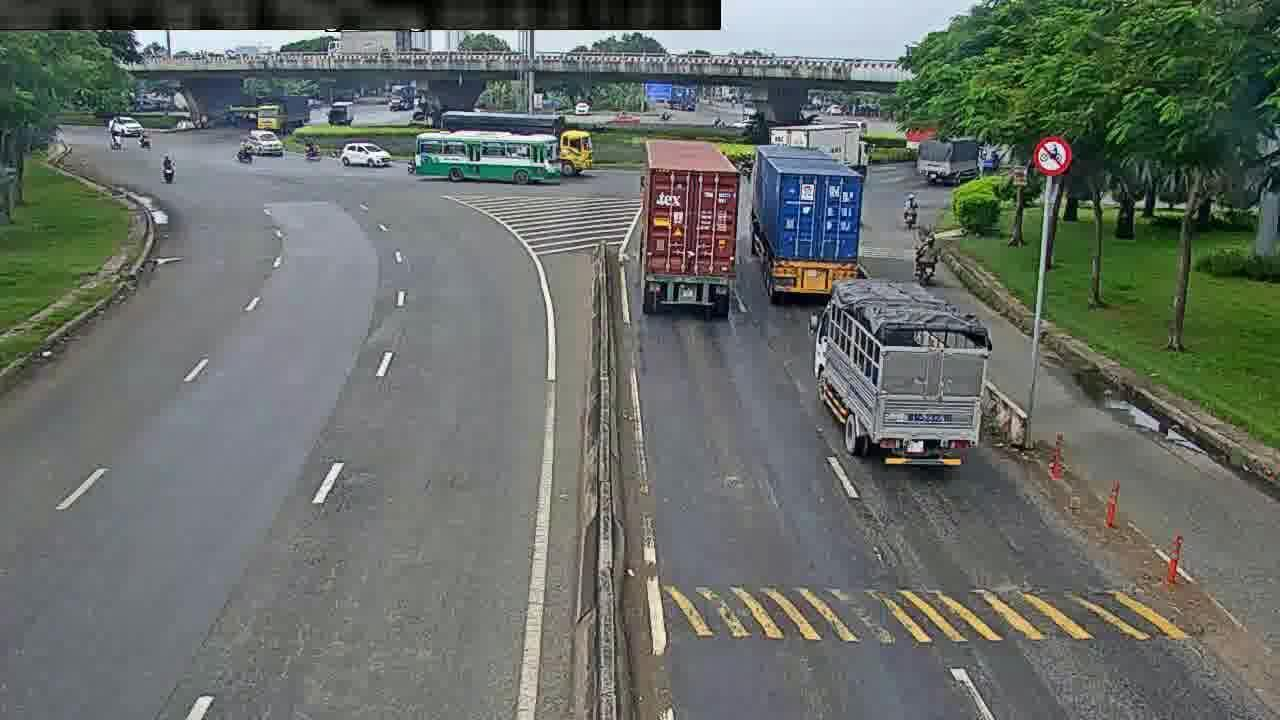14: (413, 127, 560, 186)
8: (800, 278, 985, 476), (747, 140, 870, 309), (633, 137, 740, 331), (436, 110, 598, 182), (762, 123, 871, 185), (911, 138, 990, 180)
container: (335, 141, 393, 171), (248, 126, 289, 161)
